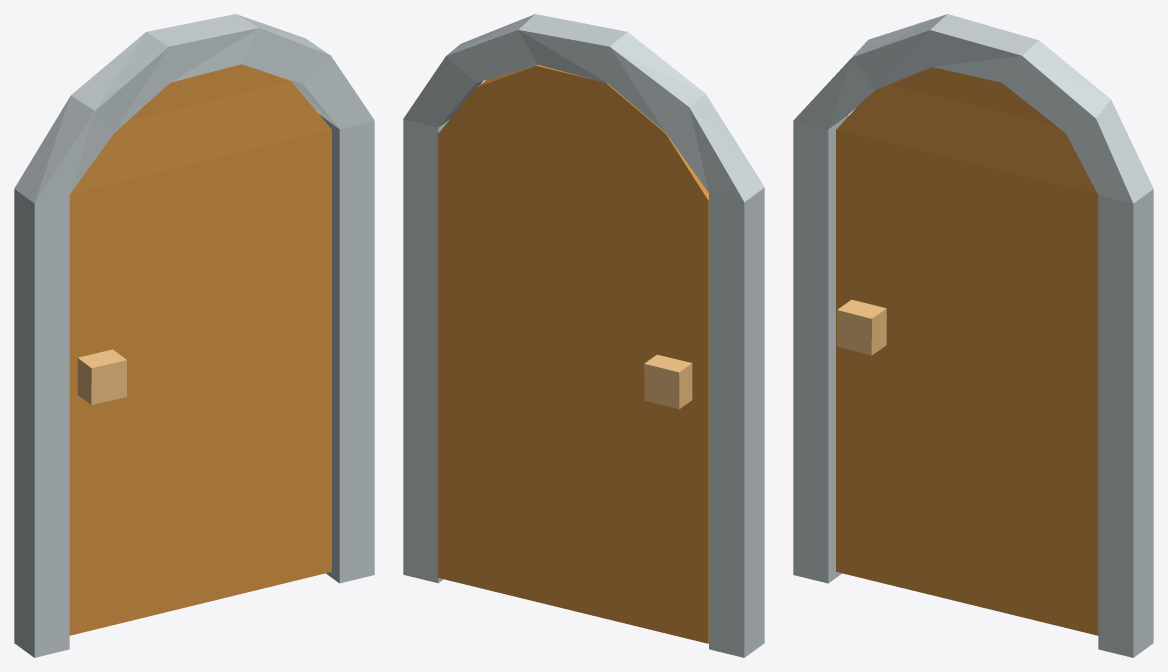
File: scene_qvNlemLMgA.glb
The picture shows the model from 3 angles, left to right: view 1: azimuth 30°, elevation 25°; view 2: azimuth 150°, elevation 25°; view 3: azimuth 330°, elevation 25°; orthographic projection.
Parts seen in each view (by area): view 1: Node; view 2: Node; view 3: Node.
Boxes of the visible parts, x1,y1,x2,y2 form: Node: (14, 14, 374, 657); Node: (403, 14, 764, 657); Node: (793, 14, 1153, 657).
Size of the model in its own units: 0.29 by 0.4706 by 0.0604.
